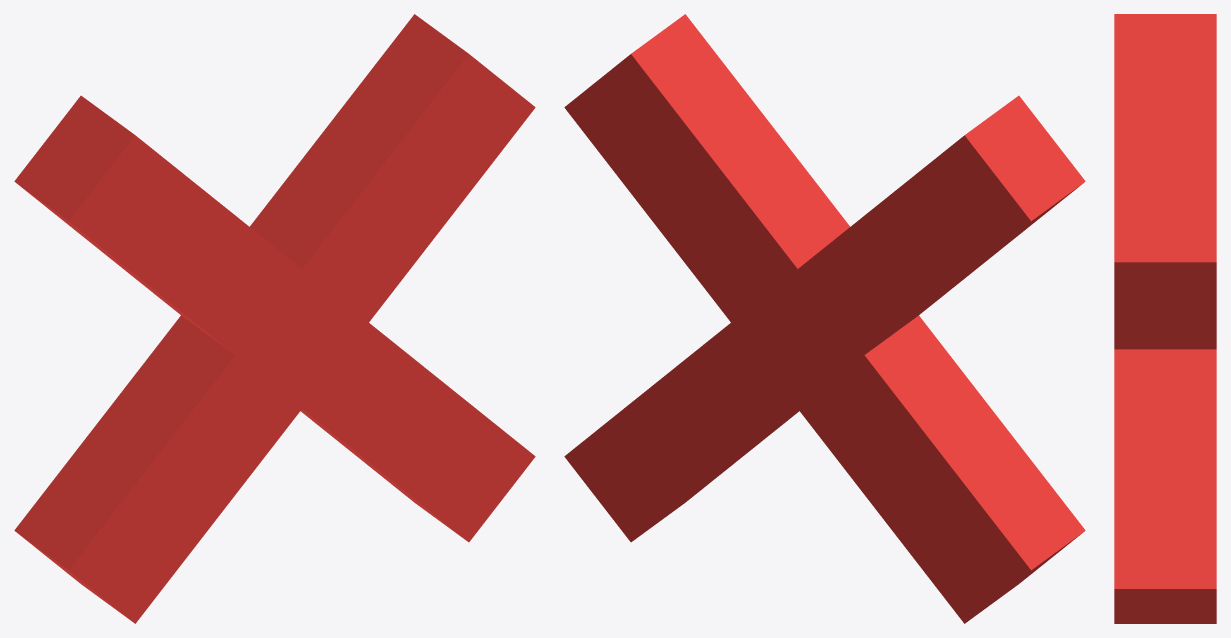
Rendered from cross_mark.gltf.
3 views of the same model, side by side, from view 1: azimuth 30°, elevation 25°; view 2: azimuth 150°, elevation 25°; view 3: azimuth 270°, elevation 25° (orthographic). The views are drawn at different scales.
Parts seen in each view (by area): view 1: Cube.6461; view 2: Cube.6461; view 3: Cube.6461.
Boxes of the visible parts, box(x1,y1,x2,y2) form: Cube.6461: box(14, 14, 535, 623); Cube.6461: box(564, 14, 1085, 623); Cube.6461: box(1114, 14, 1216, 623).
Bounding box in the file's own units: 1.98 × 1.98 × 0.4.
1 material, 1 textured.
